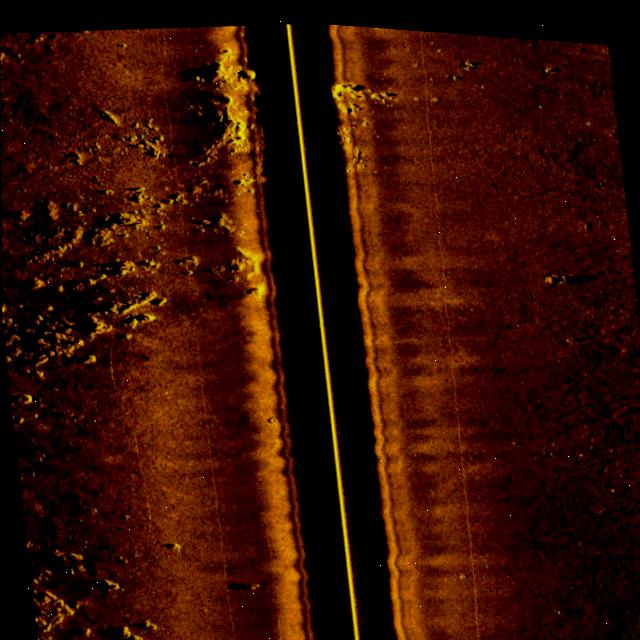mine: (10, 393, 32, 409)
